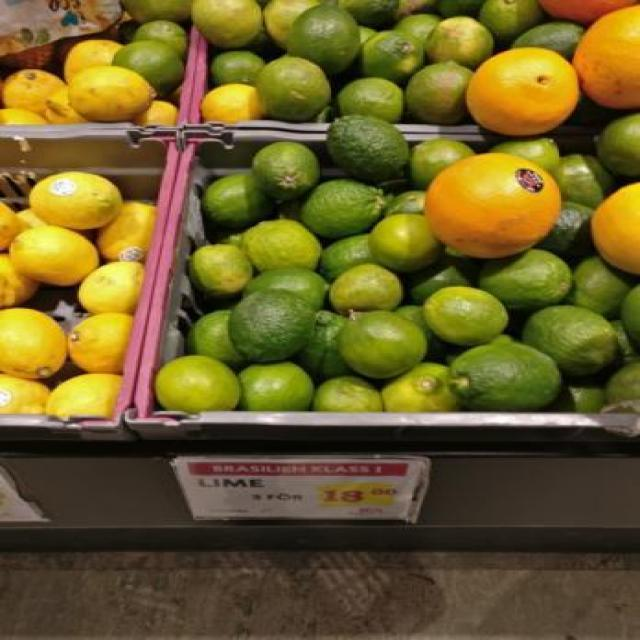Orange: (423, 150, 563, 262), (455, 39, 580, 139)
